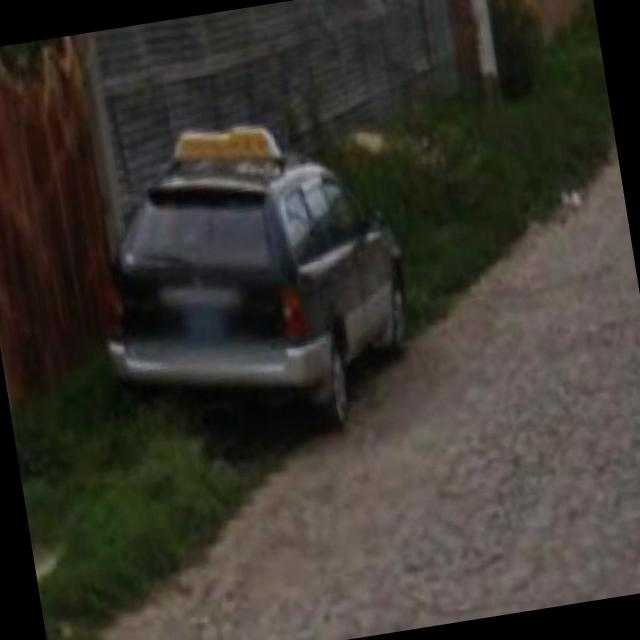car: (80, 120, 430, 454)
